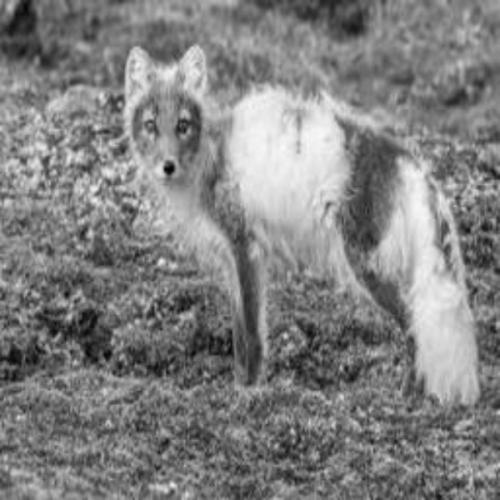arctic_fox-endangered: (125, 45, 479, 407)
